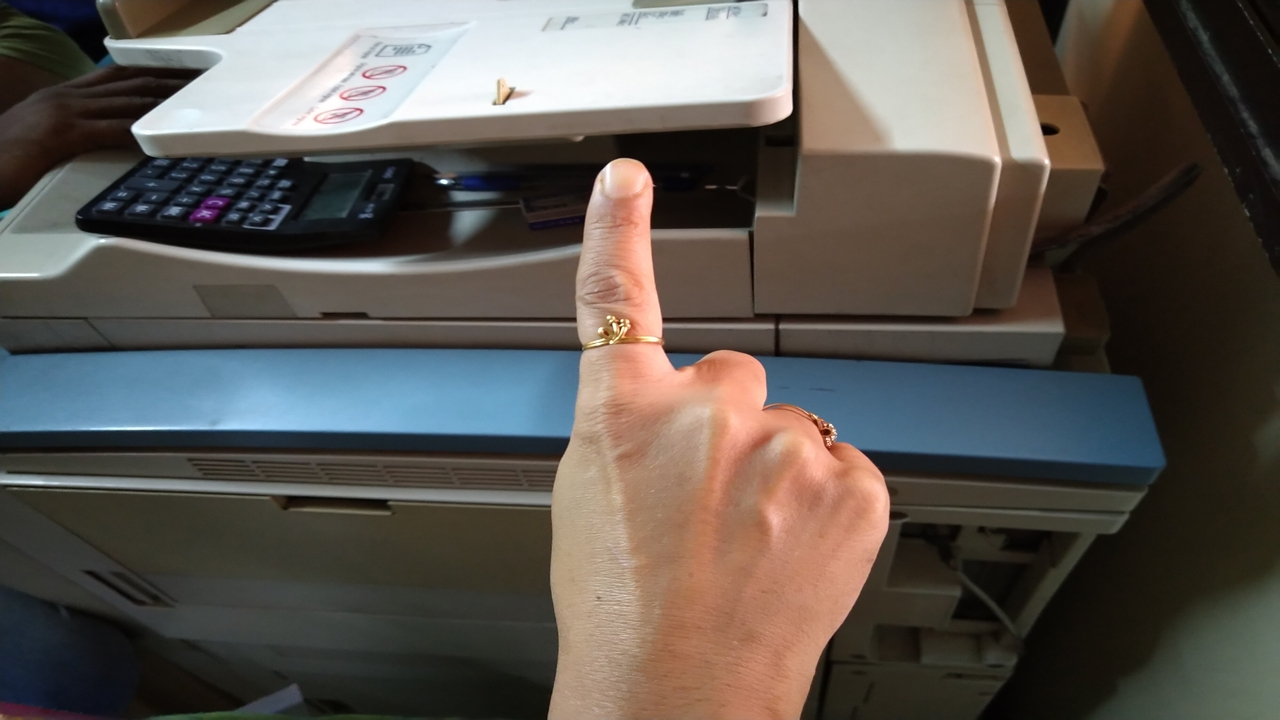fingertip: (582, 150, 654, 220)
